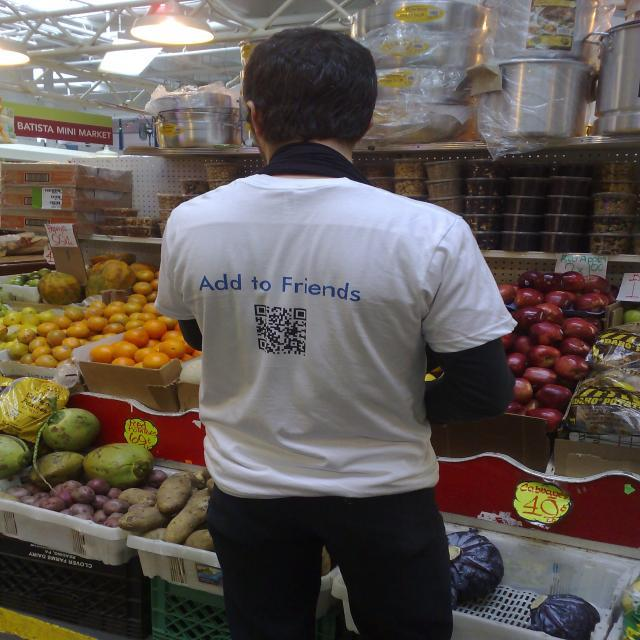qr-code: (254, 304, 306, 356)
